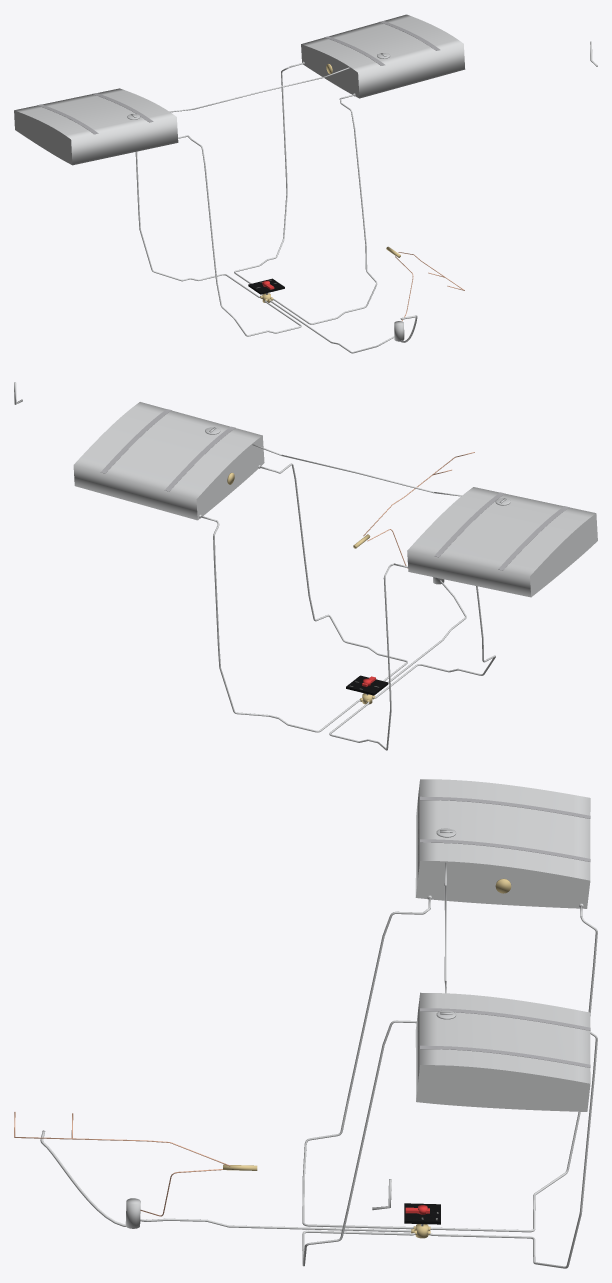
Rendered from FUEL.glb.
The picture shows the model from 3 angles, top to bottom: view 1: azimuth 30°, elevation 25°; view 2: azimuth 150°, elevation 25°; view 3: azimuth 270°, elevation 25°; orthographic projection. The views are drawn at different scales.
Visible parts, largest first — view 1: WING_L.fuel_tank, WING_R.fuel_tank, FUEL.line_tank_fwd_L, FUEL.line_tank_fwd_R, FUEL.line_tank_aft_L, FUEL.line_tank_aft_R; view 2: WING_L.fuel_tank, WING_R.fuel_tank, FUEL.line_tank_aft_L, FUEL.line_tank_fwd_L, FUEL.line_tank_aft_R, FUEL.line_tank_fwd_R; view 3: WING_R.fuel_tank, WING_L.fuel_tank, FUEL.line_tank_fwd_R, FUEL.line_tank_fwd_L, FUEL.line_tank_aft_L, FUEL.line_tank_aft_R, FUEL.line_valve_to_strainer, WING_L.fuel_tank_strap_2, WING_R.fuel_tank_strap_2, WING_R.fuel_tank_strap_1, WING_L.fuel_tank_strap_1.
Part boxes in pixels (x1=…): WING_L.fuel_tank: x1=301, y1=14, x2=465, y2=98; WING_R.fuel_tank: x1=14, y1=88, x2=178, y2=165; FUEL.line_tank_fwd_L: x1=273, y1=98, x2=377, y2=324; FUEL.line_tank_fwd_R: x1=188, y1=135, x2=301, y2=336; FUEL.line_tank_aft_L: x1=234, y1=66, x2=289, y2=283; FUEL.line_tank_aft_R: x1=135, y1=151, x2=261, y2=298; WING_L.fuel_tank: x1=73, y1=402, x2=264, y2=520; WING_R.fuel_tank: x1=407, y1=487, x2=597, y2=597; FUEL.line_tank_aft_L: x1=213, y1=520, x2=360, y2=732; FUEL.line_tank_fwd_L: x1=275, y1=463, x2=407, y2=681; FUEL.line_tank_aft_R: x1=329, y1=563, x2=393, y2=750; FUEL.line_tank_fwd_R: x1=373, y1=586, x2=495, y2=698; WING_R.fuel_tank: x1=415, y1=779, x2=590, y2=908; WING_L.fuel_tank: x1=415, y1=992, x2=590, y2=1111; FUEL.line_tank_fwd_R: x1=302, y1=908, x2=430, y2=1229; FUEL.line_tank_fwd_L: x1=302, y1=1020, x2=417, y2=1266; FUEL.line_tank_aft_L: x1=427, y1=1031, x2=597, y2=1268; FUEL.line_tank_aft_R: x1=430, y1=916, x2=597, y2=1232; FUEL.line_valve_to_strainer: x1=140, y1=1218, x2=411, y2=1232; WING_L.fuel_tank_strap_2: x1=420, y1=1045, x2=590, y2=1067; WING_R.fuel_tank_strap_2: x1=420, y1=796, x2=590, y2=818; WING_R.fuel_tank_strap_1: x1=420, y1=839, x2=590, y2=861; WING_L.fuel_tank_strap_1: x1=420, y1=1008, x2=590, y2=1030.
Size of the model in its own units: 3.58 by 1.41 by 2.38.
8 materials, 2 textured.
